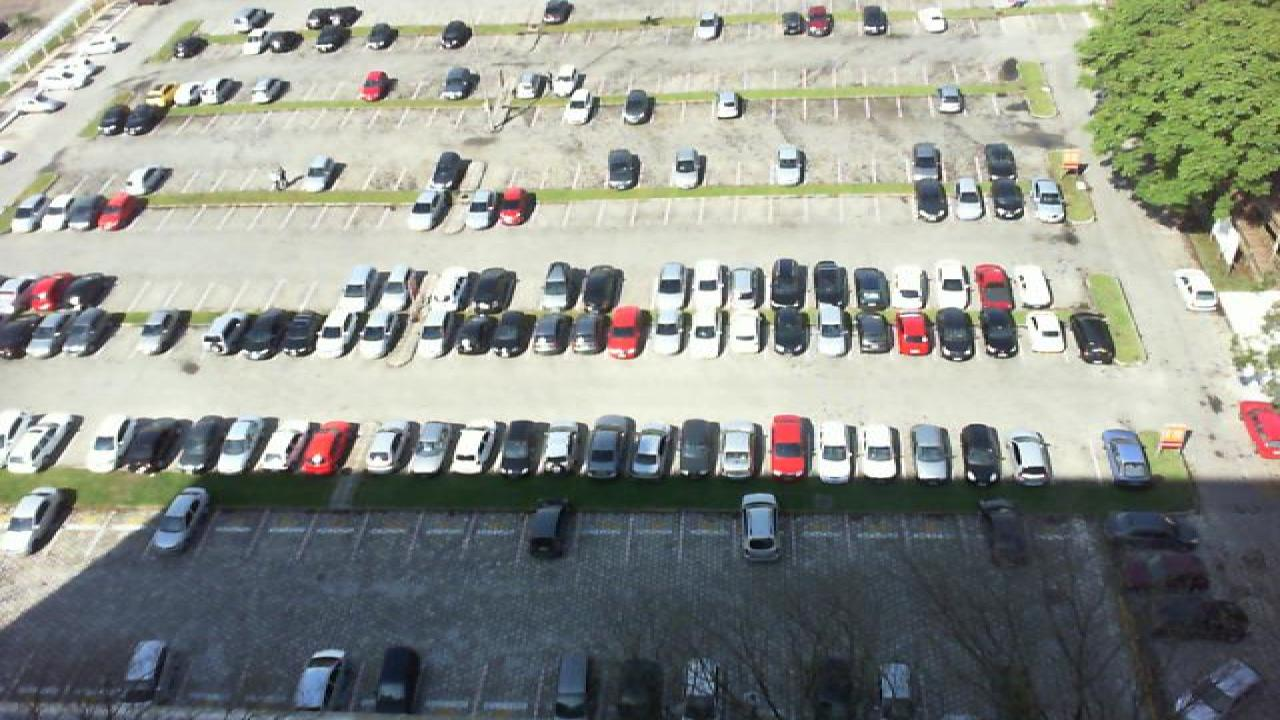Car: (0, 484, 74, 558), (148, 486, 216, 555), (4, 409, 74, 476), (290, 648, 350, 720), (122, 415, 190, 475), (368, 642, 422, 714), (976, 496, 1030, 567), (116, 639, 170, 704), (218, 415, 278, 473), (172, 414, 232, 472), (1102, 426, 1156, 488), (738, 491, 784, 562), (546, 652, 594, 720), (296, 418, 352, 476), (256, 420, 316, 474), (522, 498, 576, 557), (870, 660, 922, 720), (676, 657, 724, 720), (582, 414, 628, 479), (86, 419, 140, 474), (958, 422, 1004, 486), (490, 418, 540, 476), (360, 422, 414, 475), (766, 413, 810, 478), (202, 309, 260, 358), (402, 421, 454, 475), (814, 423, 860, 484), (444, 421, 494, 476), (672, 421, 720, 478), (0, 306, 52, 358), (1066, 312, 1118, 364), (30, 308, 84, 358), (1008, 432, 1056, 487), (978, 305, 1024, 362), (1238, 398, 1280, 460), (74, 307, 124, 359), (138, 308, 190, 358), (912, 422, 956, 481), (240, 308, 290, 359), (720, 422, 764, 479), (604, 303, 646, 362), (864, 424, 908, 480), (536, 423, 582, 476), (630, 426, 674, 481), (52, 270, 108, 313), (414, 309, 462, 358), (16, 271, 70, 314), (1174, 266, 1224, 312), (314, 307, 358, 358), (580, 262, 624, 313), (930, 259, 974, 309), (850, 261, 894, 311), (726, 307, 768, 359), (768, 306, 810, 358), (934, 308, 976, 360), (810, 308, 852, 359), (1024, 310, 1070, 356), (472, 266, 518, 312), (1010, 262, 1054, 310), (972, 261, 1016, 309), (352, 308, 394, 358), (852, 307, 894, 357), (890, 261, 934, 308), (66, 190, 114, 233), (454, 309, 496, 358), (808, 259, 850, 308), (986, 174, 1028, 223), (770, 256, 808, 310), (568, 307, 608, 358), (1028, 175, 1072, 221), (492, 184, 536, 230), (406, 188, 450, 234), (894, 309, 934, 359), (544, 260, 582, 312), (278, 309, 318, 358), (530, 308, 570, 357), (690, 306, 728, 357), (908, 176, 950, 222), (100, 190, 146, 232), (372, 262, 410, 312), (36, 190, 80, 233), (6, 190, 48, 235), (654, 260, 690, 312), (652, 307, 690, 356), (438, 268, 480, 312), (492, 310, 532, 356), (604, 146, 644, 192), (428, 150, 468, 196), (730, 261, 766, 312), (338, 264, 376, 310), (950, 176, 988, 222), (122, 164, 172, 198), (460, 188, 498, 232), (692, 264, 728, 310), (670, 146, 706, 192), (128, 101, 172, 137), (904, 141, 944, 180), (770, 146, 808, 187), (982, 141, 1022, 179), (94, 104, 138, 138), (308, 156, 346, 194), (620, 87, 656, 126), (0, 272, 36, 310), (1026, 140, 1062, 178), (304, 8, 356, 34), (562, 90, 598, 127), (442, 64, 478, 101), (356, 68, 392, 104), (174, 79, 216, 109), (518, 70, 552, 107), (436, 19, 474, 52), (804, 2, 838, 37), (170, 33, 212, 61), (858, 3, 892, 37), (692, 9, 728, 41), (914, 4, 950, 36), (232, 30, 276, 56), (214, 78, 252, 108), (264, 27, 304, 55), (712, 87, 746, 119), (316, 25, 354, 53), (232, 7, 274, 32), (250, 78, 288, 105), (934, 82, 966, 114), (750, 7, 782, 39), (538, 0, 576, 26), (364, 23, 398, 52), (548, 64, 576, 98), (780, 8, 810, 38)
